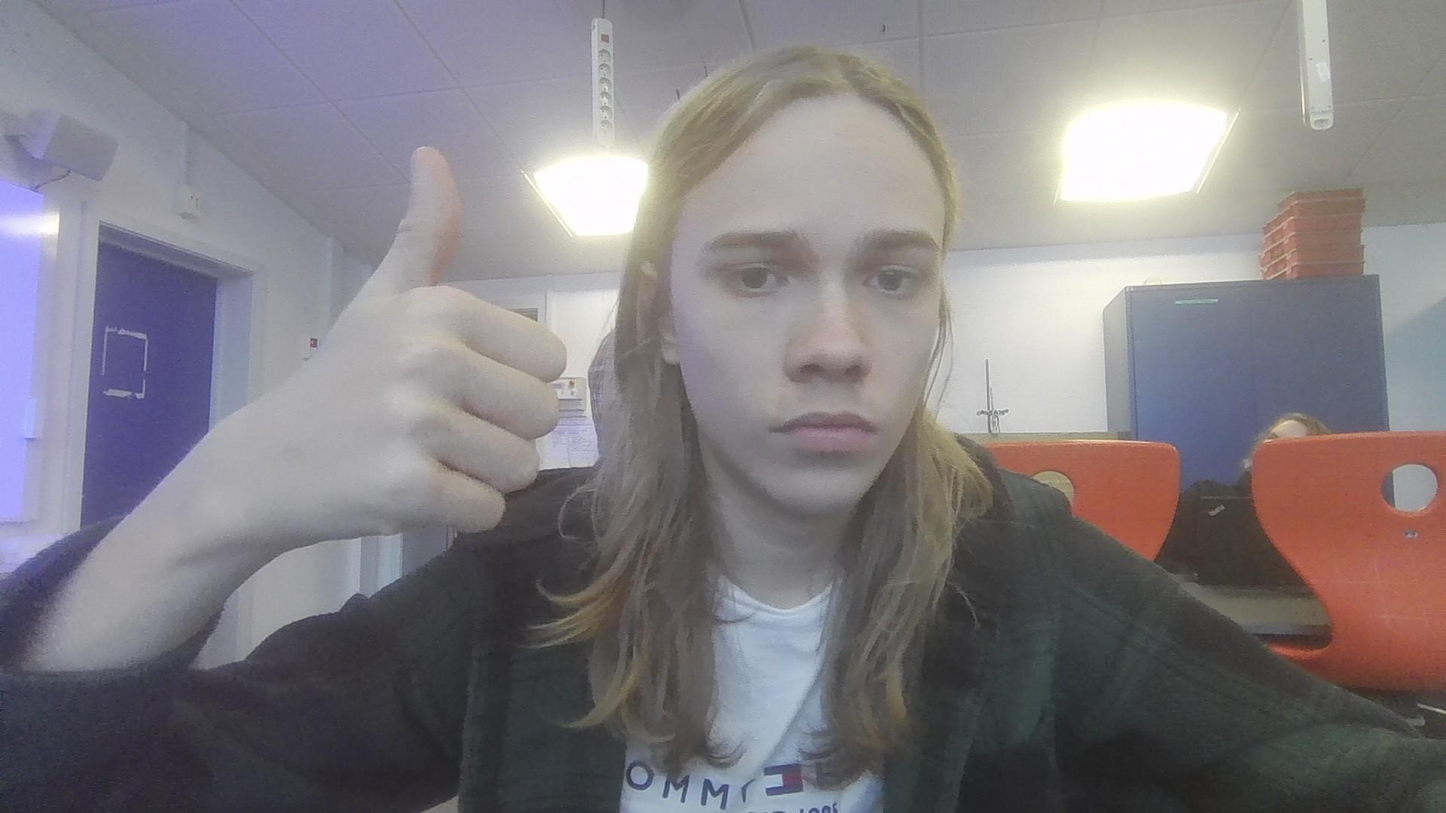thumbs up: (190, 119, 572, 602)
